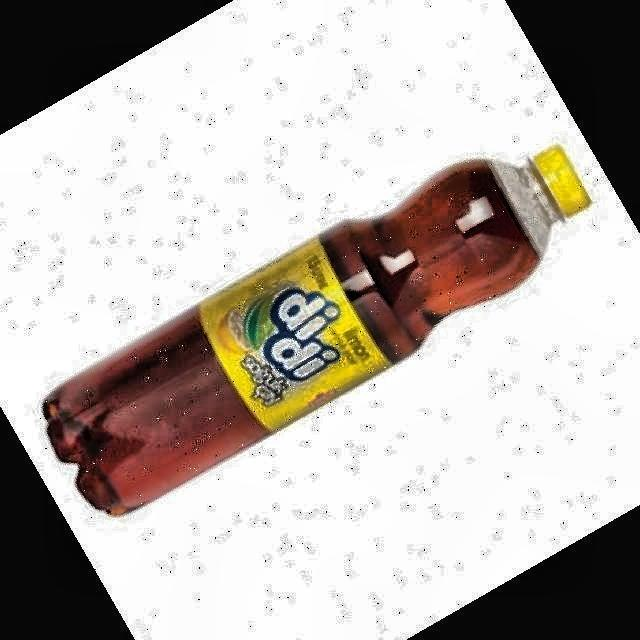plastic: (43, 148, 588, 513)
